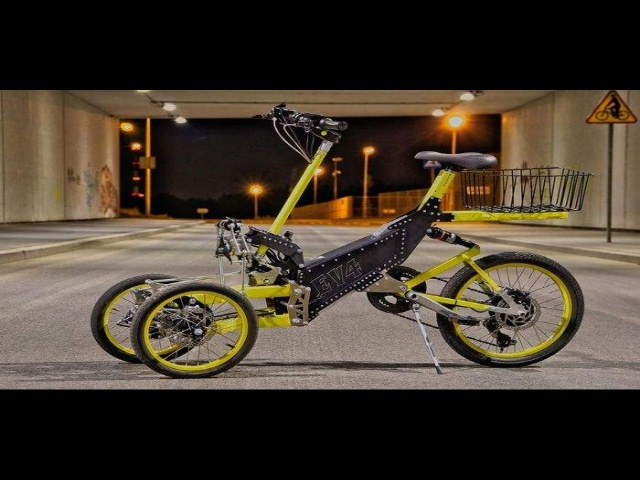bike: (86, 100, 592, 393)
